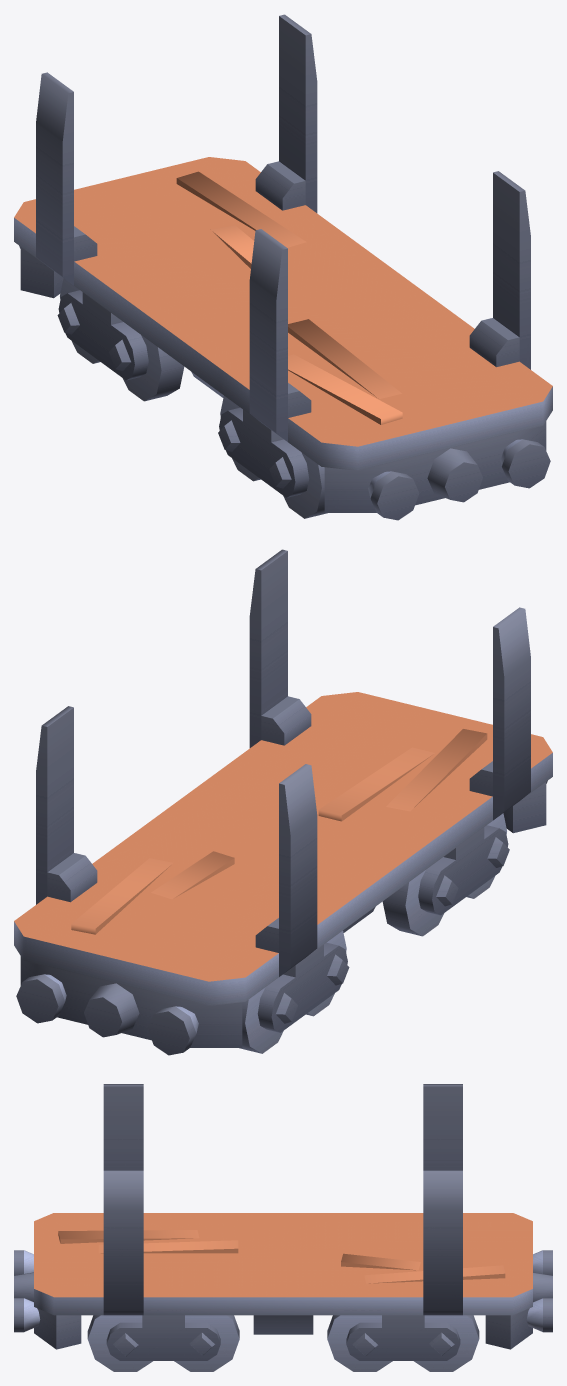
The model's file is wagon_flatbed_wood.glb.
3 renders of one model, top to bottom at view 1: azimuth 30°, elevation 25°; view 2: azimuth 150°, elevation 25°; view 3: azimuth 270°, elevation 25°, orthographic. The views are drawn at different scales.
Visible parts, largest first — view 1: train-carriage-flatbed-wood, wheels-back, wheels-front; view 2: train-carriage-flatbed-wood, wheels-front, wheels-back; view 3: train-carriage-flatbed-wood, wheels-front, wheels-back.
Part boxes in pixels (bbox=[...]): train-carriage-flatbed-wood: bbox=[14, 14, 552, 520]; wheels-back: bbox=[57, 278, 184, 401]; wheels-front: bbox=[218, 396, 327, 518]; train-carriage-flatbed-wood: bbox=[14, 549, 552, 1055]; wheels-front: bbox=[382, 813, 509, 936]; wheels-back: bbox=[239, 931, 349, 1053]; train-carriage-flatbed-wood: bbox=[14, 1084, 552, 1349]; wheels-front: bbox=[87, 1315, 239, 1371]; wheels-back: bbox=[327, 1315, 479, 1371].
Size of the model in its own units: 1.1 by 1.16 by 2.7.
1 material, 1 textured.
